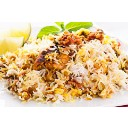briyani: (3, 35, 128, 104)
